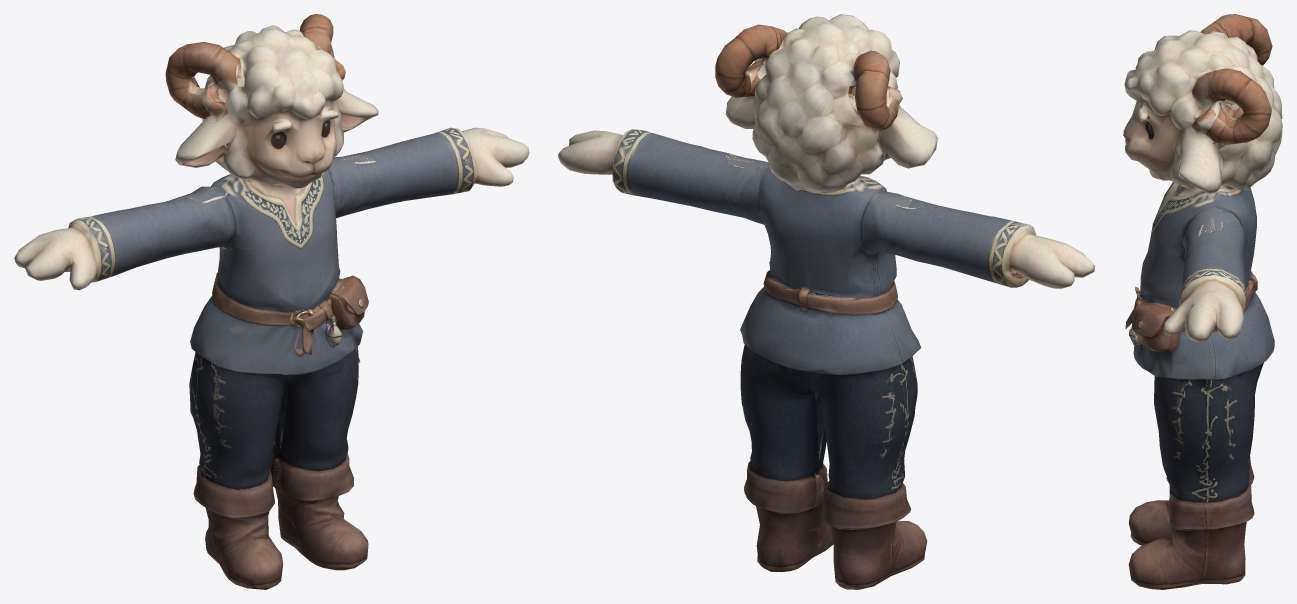
The model's file is Varco_Sheep_Raw.fbx.
3 views of the same model, side by side, from view 1: azimuth 30°, elevation 25°; view 2: azimuth 150°, elevation 25°; view 3: azimuth 270°, elevation 25° (orthographic). The views are drawn at different scales.
Visible parts, largest first — view 1: texture_mapping; view 2: texture_mapping; view 3: texture_mapping.
Boxes of the visible parts, x1=… form: texture_mapping: x1=14, y1=14, x2=529, y2=589; texture_mapping: x1=558, y1=14, x2=1094, y2=589; texture_mapping: x1=1123, y1=14, x2=1282, y2=589.
Bounding box in the file's own units: 1 × 0.2754 × 1.
Materials: 1 (1 with a texture image).
